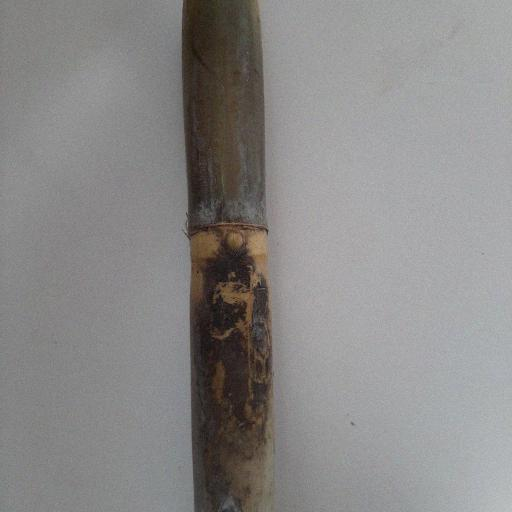Bud: (223, 230, 246, 256)
